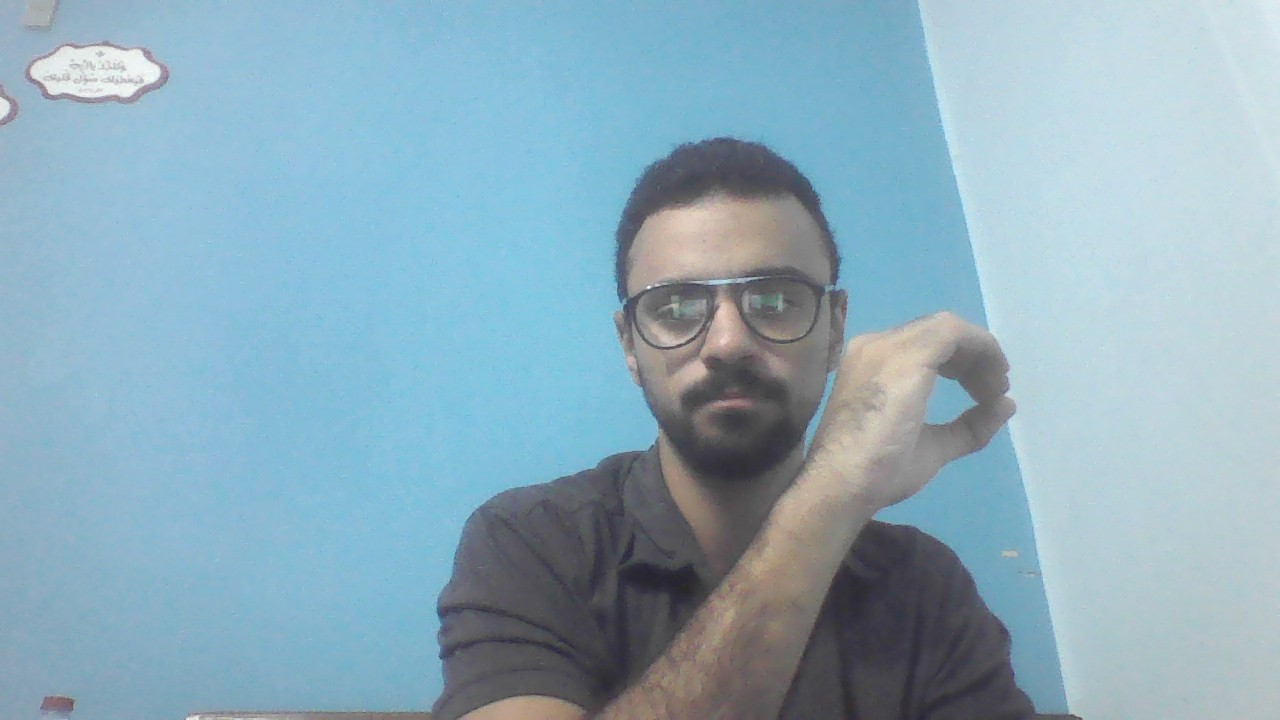okay: (815, 311, 1022, 496)
